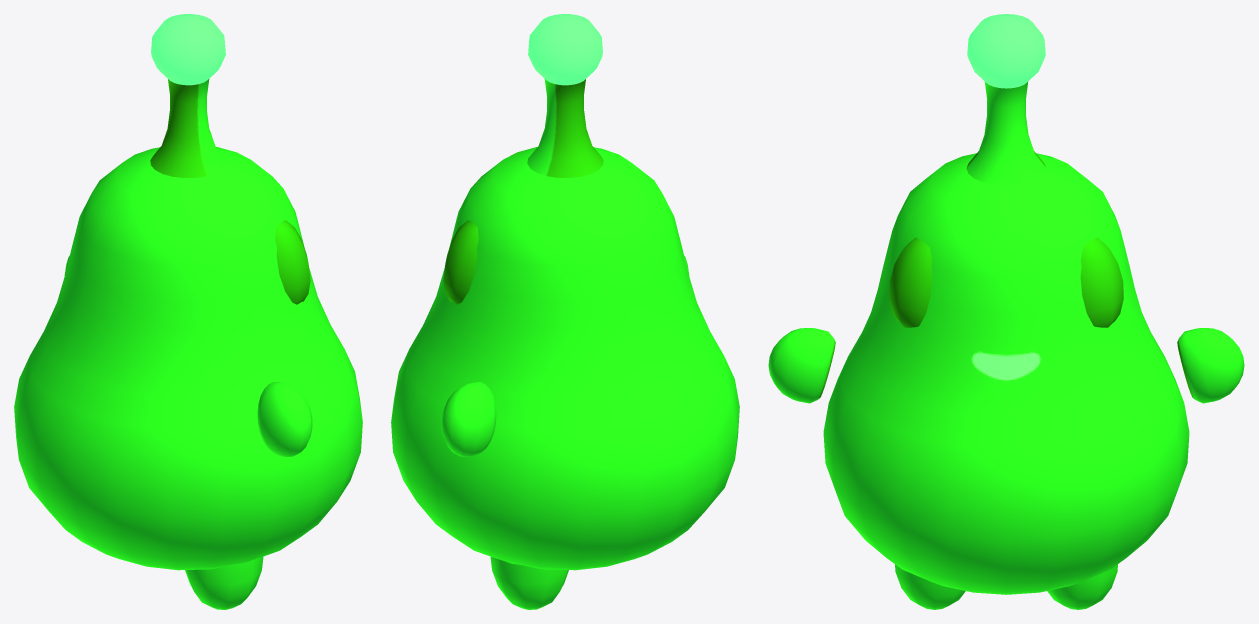
Rendered from ZorpGreen.fbx.
3 renders of one model, left to right at view 1: azimuth 30°, elevation 25°; view 2: azimuth 150°, elevation 25°; view 3: azimuth 270°, elevation 25°, orthographic. The views are drawn at different scales.
Visible parts, largest first — view 1: Body, MAGE1.009, MAGE1.007, MAGE1.001, MAGE1.008; view 2: Body, MAGE1.009, MAGE1.003, MAGE1, MAGE1.006; view 3: Body, MAGE1.009, MAGE1.003, MAGE1.007, MAGE1.006, MAGE1.008, MAGE1, MAGE1.001.
Part boxes in pixels (bbox=[...]): Body: bbox=[14, 147, 362, 570]; MAGE1.009: bbox=[150, 14, 226, 177]; MAGE1.007: bbox=[257, 382, 312, 456]; MAGE1.001: bbox=[185, 557, 263, 609]; MAGE1.008: bbox=[275, 220, 310, 304]; Body: bbox=[391, 147, 739, 570]; MAGE1.009: bbox=[527, 14, 603, 177]; MAGE1.003: bbox=[441, 382, 496, 456]; MAGE1: bbox=[490, 557, 568, 609]; MAGE1.006: bbox=[443, 220, 478, 304]; Body: bbox=[823, 153, 1189, 594]; MAGE1.009: bbox=[966, 14, 1046, 185]; MAGE1.003: bbox=[1177, 328, 1244, 403]; MAGE1.007: bbox=[768, 328, 835, 403]; MAGE1.006: bbox=[1080, 237, 1123, 327]; MAGE1.008: bbox=[889, 237, 932, 327]; MAGE1: bbox=[1047, 564, 1117, 609]; MAGE1.001: bbox=[895, 564, 965, 609].
Size of the model in its own units: 192 by 341 by 250.
